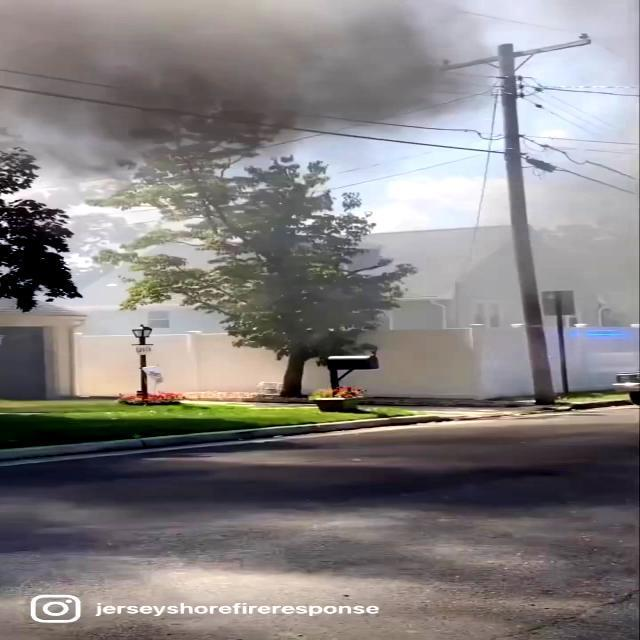Smoke: (0, 0, 624, 370)
